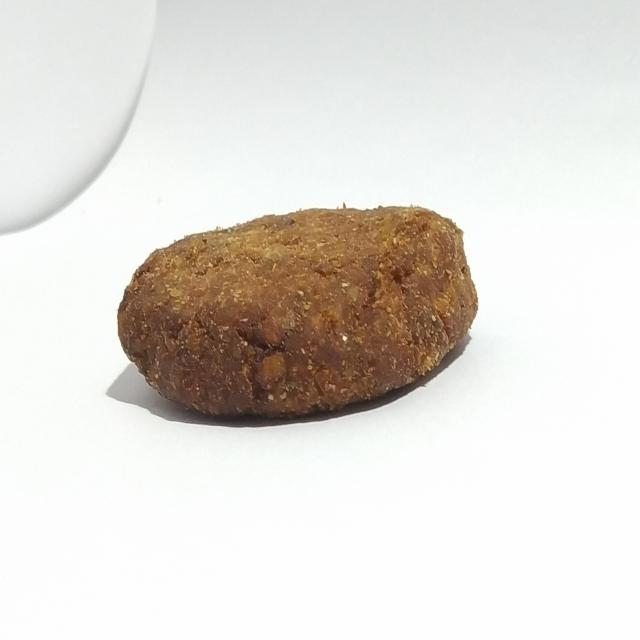Food: (110, 188, 482, 433)
